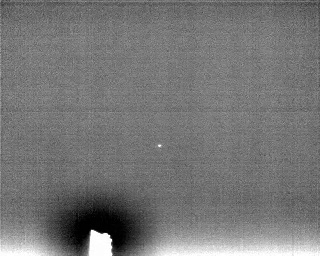BIRD: (155, 141, 164, 151)
